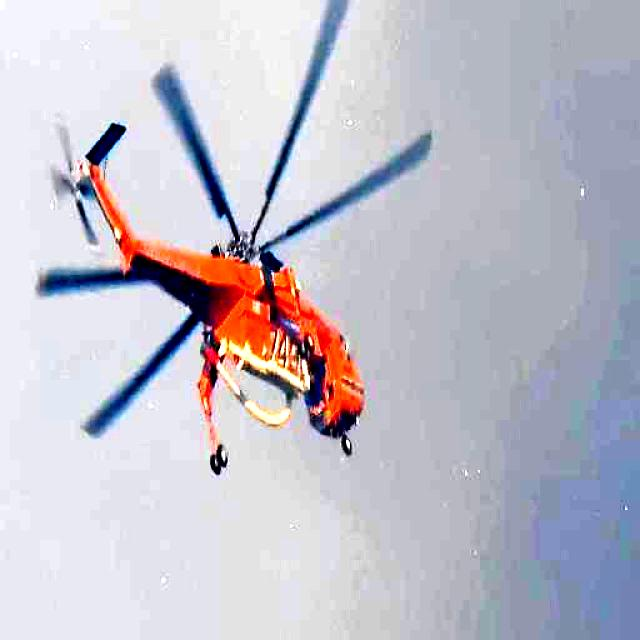drone: (45, 0, 419, 544)
